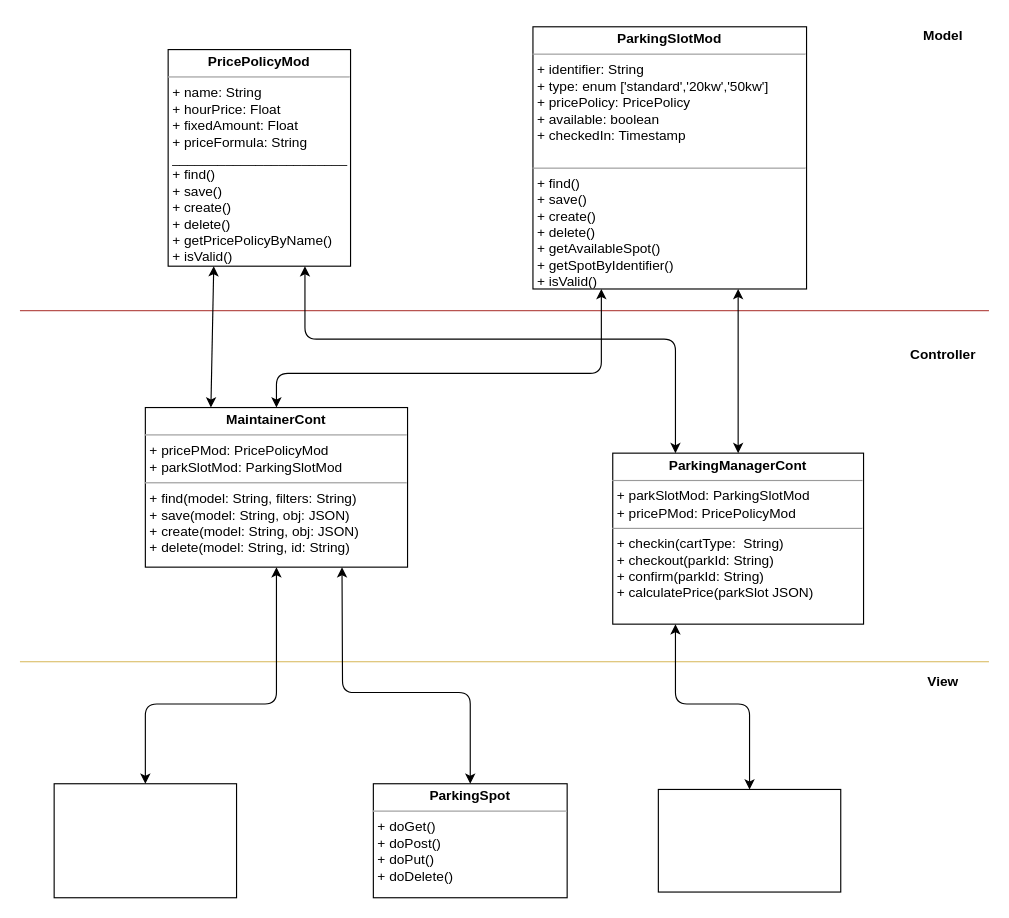
This 1009x918 diagram has some shape labels left out. The box of each missing label's shape, as (x1, y1, x2, y2) in pixels:
ParkingSpotMan + doGet() + doPut() + doPost(): (657, 788, 841, 892)
PricePolicy + doGet() + doPost() + doPut() + doDelete(): (53, 783, 237, 898)
